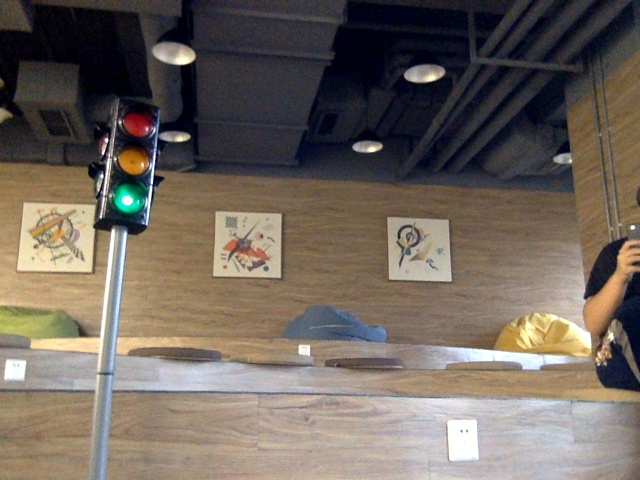green: (115, 108, 146, 215)
